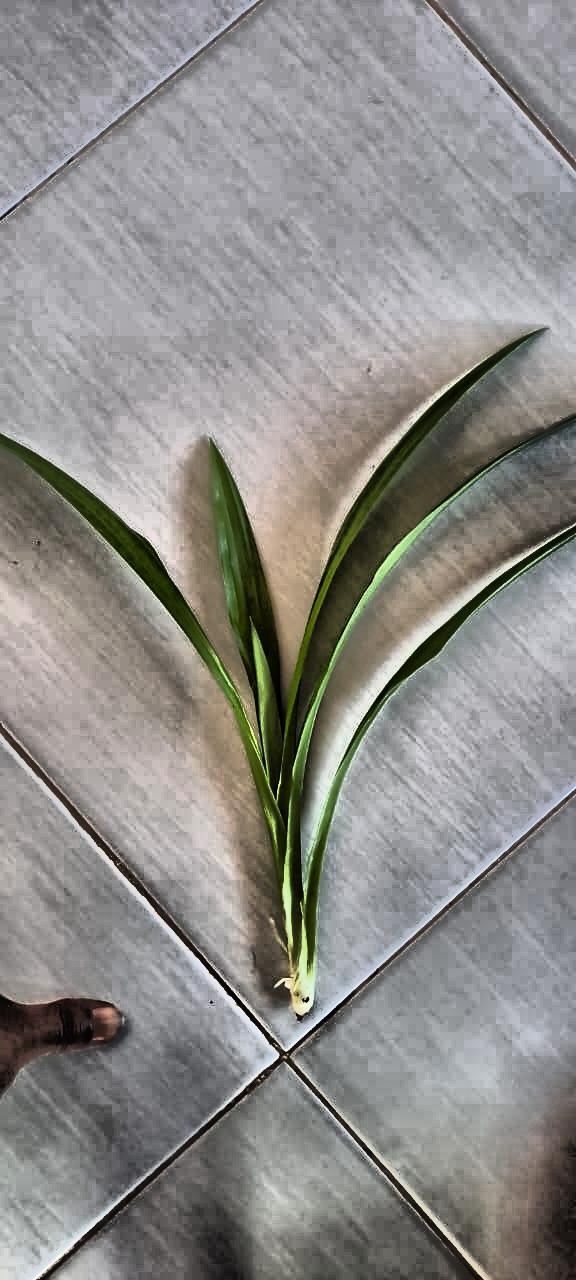daun pandan: (2, 333, 575, 1018)
